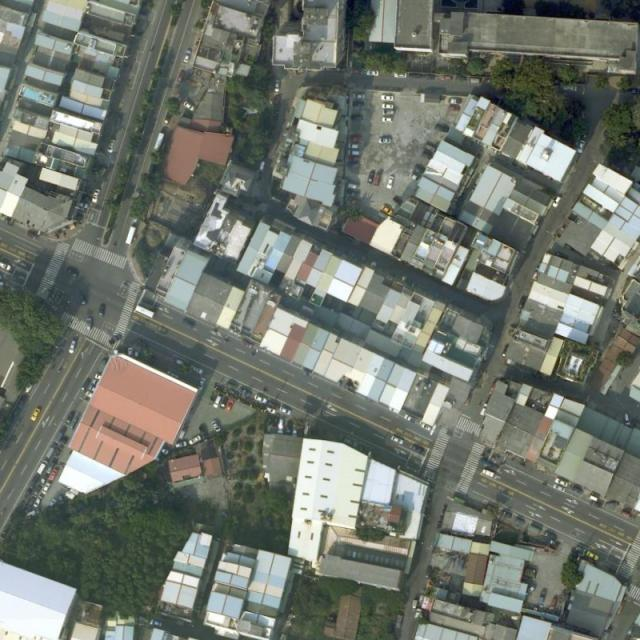vehicle: (135, 305, 154, 318), (125, 226, 137, 246), (484, 459, 499, 473), (154, 132, 165, 151), (277, 404, 293, 417), (46, 444, 58, 460), (390, 434, 406, 446), (404, 413, 420, 425), (183, 48, 194, 65), (37, 462, 50, 476), (30, 407, 42, 422), (199, 426, 210, 442), (552, 482, 568, 493), (381, 204, 394, 217), (190, 363, 204, 375), (188, 434, 202, 446), (569, 484, 583, 496), (482, 467, 497, 478), (555, 476, 570, 487), (106, 139, 116, 155), (182, 317, 195, 329), (63, 414, 75, 427), (46, 469, 58, 482), (513, 516, 526, 528), (211, 419, 222, 433), (411, 443, 425, 454), (33, 494, 43, 509), (539, 588, 549, 603), (253, 394, 268, 404), (577, 140, 586, 156), (68, 417, 79, 430), (226, 398, 237, 411), (499, 509, 512, 520), (176, 70, 187, 83), (183, 101, 196, 112), (23, 486, 33, 500), (424, 566, 434, 580), (552, 195, 562, 209), (367, 172, 377, 186), (69, 339, 78, 354), (587, 550, 599, 561), (197, 378, 207, 391), (32, 485, 42, 498), (26, 496, 36, 509), (42, 482, 52, 495), (550, 597, 560, 610), (530, 524, 543, 534), (620, 510, 633, 520), (420, 422, 433, 432), (214, 394, 222, 410), (92, 190, 101, 204), (436, 125, 450, 134), (347, 197, 361, 206), (29, 475, 39, 487), (80, 378, 90, 390), (626, 624, 636, 636), (386, 176, 394, 191), (413, 164, 425, 174), (468, 76, 483, 84), (66, 269, 79, 278), (448, 105, 461, 114), (98, 303, 106, 317), (175, 441, 189, 449), (409, 172, 420, 182), (1, 262, 13, 271), (40, 472, 49, 484), (545, 530, 557, 539), (366, 71, 381, 78), (347, 143, 362, 150), (348, 136, 363, 143), (85, 317, 93, 330), (623, 411, 631, 424), (450, 98, 463, 106), (150, 619, 163, 627), (422, 151, 433, 160), (381, 94, 395, 101), (378, 138, 392, 145), (348, 150, 362, 157), (353, 93, 367, 100), (286, 420, 293, 434), (628, 87, 640, 95), (518, 298, 526, 310), (441, 74, 453, 82), (348, 182, 360, 190), (346, 190, 359, 197), (526, 586, 536, 595), (79, 294, 87, 305), (351, 114, 363, 121), (350, 69, 364, 75), (54, 434, 63, 443), (278, 418, 283, 434), (353, 101, 366, 107), (274, 80, 280, 92), (382, 103, 394, 109), (127, 346, 133, 358), (414, 609, 422, 618), (394, 73, 408, 78), (411, 600, 418, 610), (383, 110, 395, 115), (382, 118, 394, 123), (86, 390, 93, 398), (623, 634, 630, 640), (94, 373, 101, 379), (90, 386, 96, 392)
